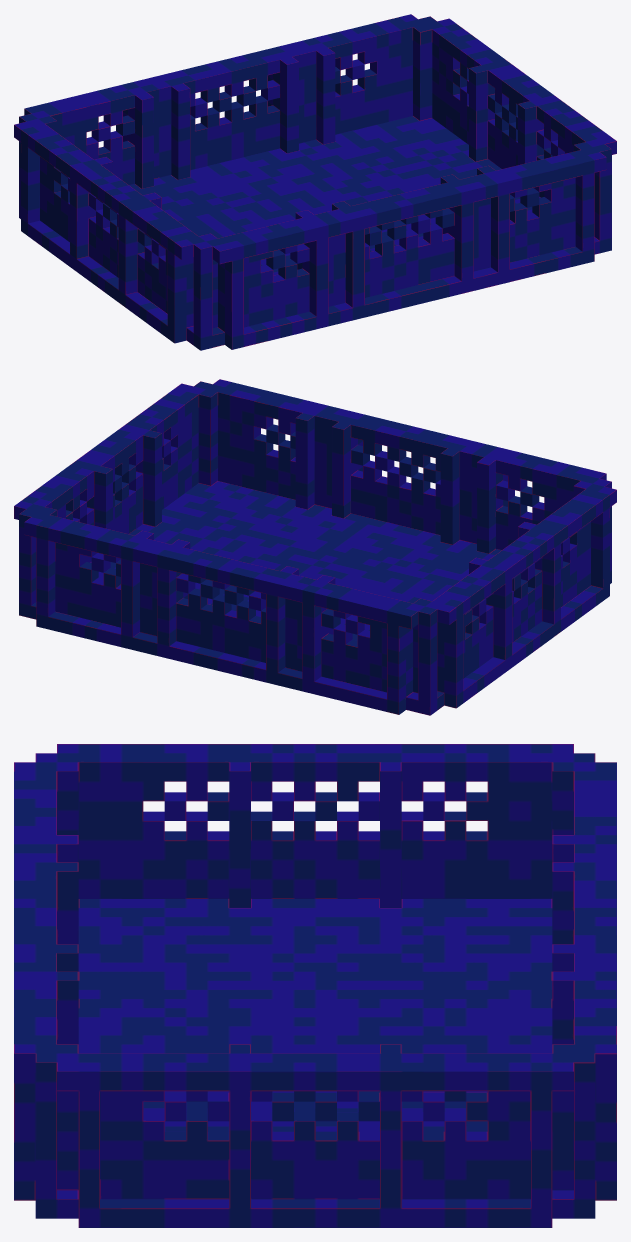
Rendered from canastilla (3).obj.
The picture shows the model from 3 angles, top to bottom: view 1: azimuth 30°, elevation 25°; view 2: azimuth 150°, elevation 25°; view 3: azimuth 270°, elevation 25°; orthographic projection. The views are drawn at different scales.
Parts seen in each view (by area): view 1: canastilla_(3); view 2: canastilla_(3); view 3: canastilla_(3).
Part boxes in pixels (left/top/right/bottom): canastilla_(3): left=14, top=14, right=616, bottom=350; canastilla_(3): left=14, top=379, right=616, bottom=715; canastilla_(3): left=14, top=744, right=616, bottom=1227.
Bounding box in the file's own units: 3.6 × 0.8 × 2.8.
1 material, 1 textured.
